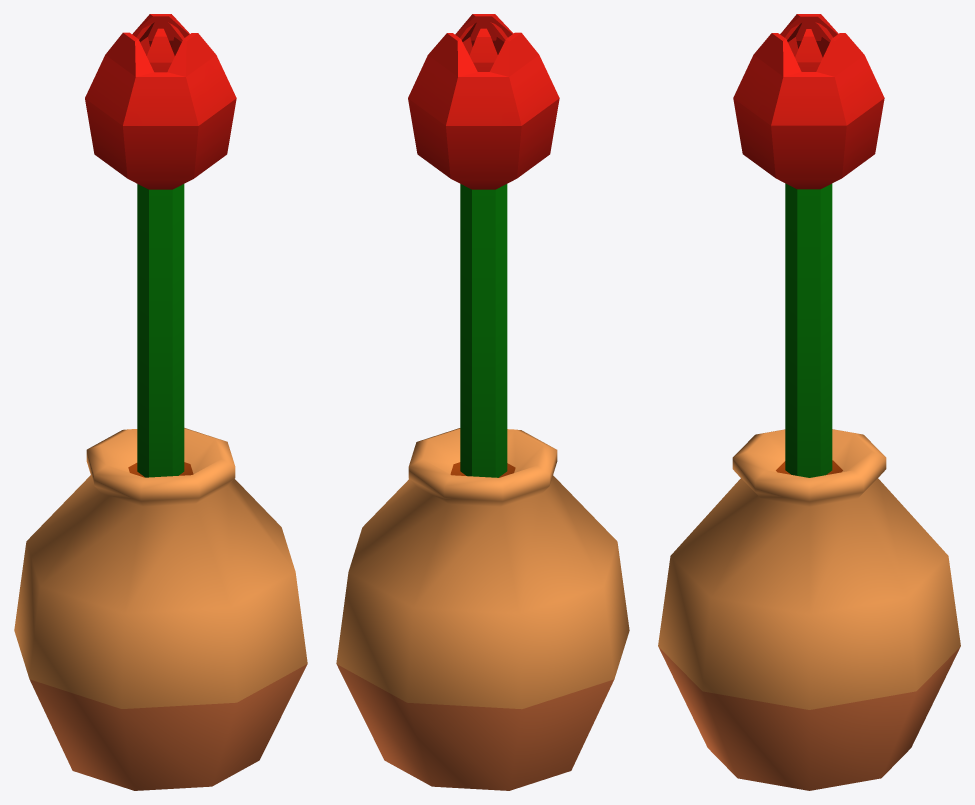
Rendered from VasoTulipa.fbx.
3 renders of one model, left to right at view 1: azimuth 30°, elevation 25°; view 2: azimuth 150°, elevation 25°; view 3: azimuth 270°, elevation 25°, orthographic.
Parts seen in each view (by area): view 1: vasoFlor.001; view 2: vasoFlor.001; view 3: vasoFlor.001.
Boxes of the visible parts, left/top/right/bottom form: vasoFlor.001: left=14, top=14, right=307, bottom=790; vasoFlor.001: left=336, top=14, right=629, bottom=790; vasoFlor.001: left=658, top=14, right=960, bottom=790.
Bounding box in the file's own units: 14.74 × 38.78 × 14.74.
